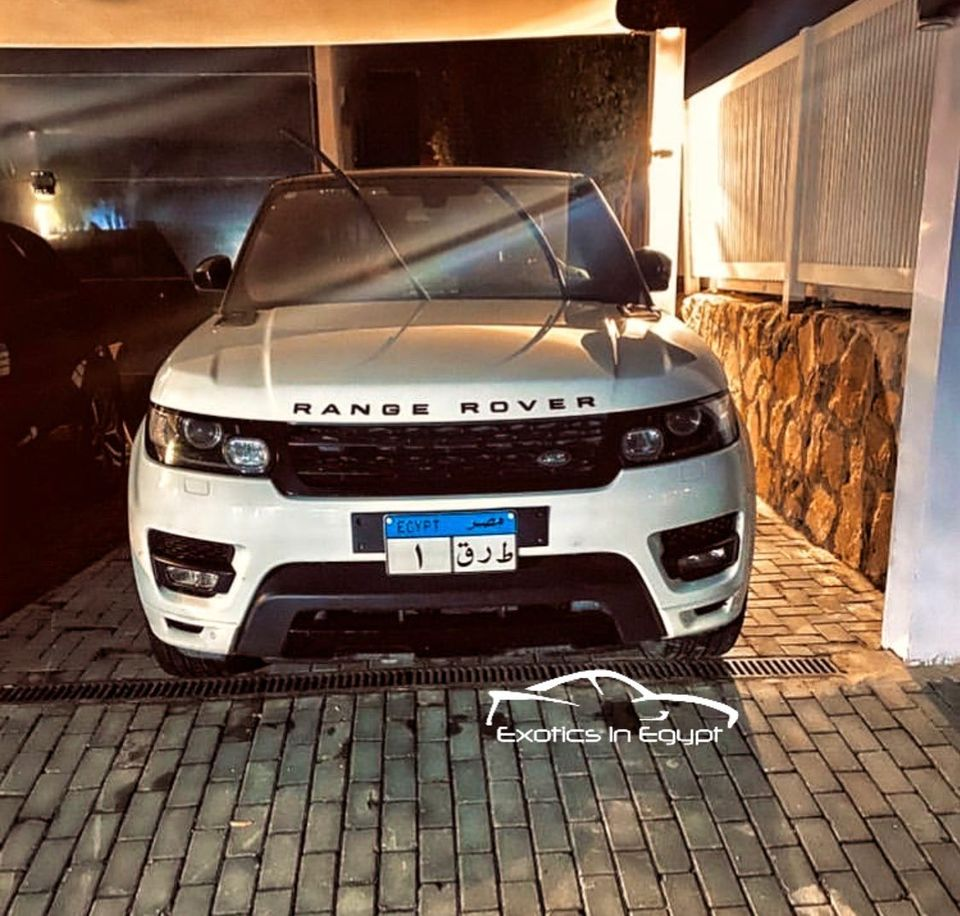carpl: (386, 516, 518, 574)
